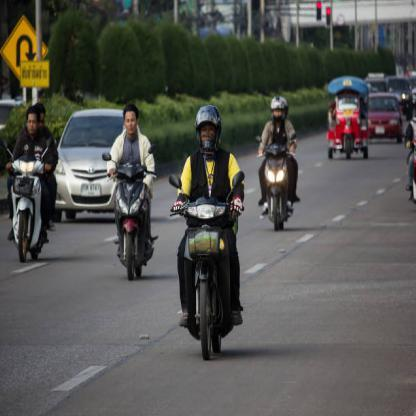Motorcycle: (170, 188, 239, 362), (103, 148, 154, 283), (5, 138, 48, 262), (256, 137, 302, 235)
